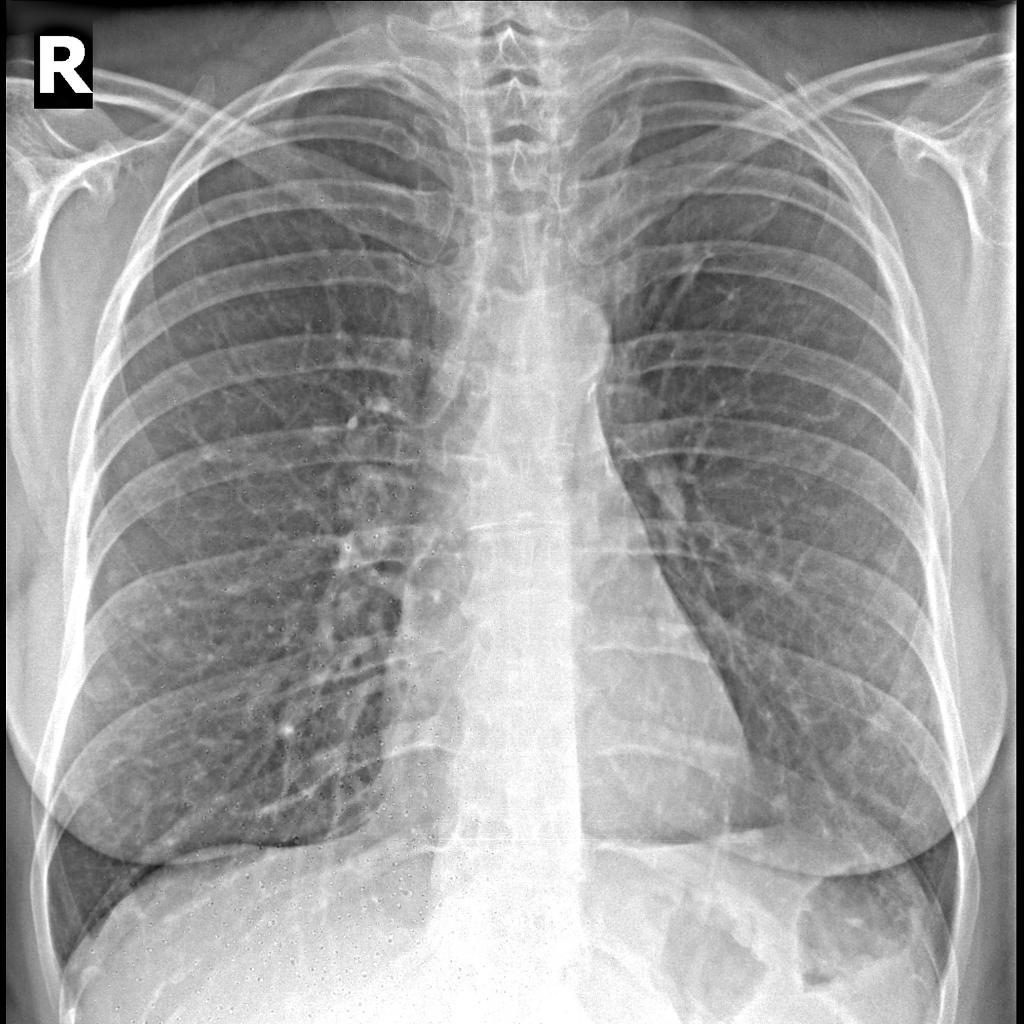Nodule: (67, 950, 123, 999), (113, 767, 161, 813), (80, 663, 123, 710)
